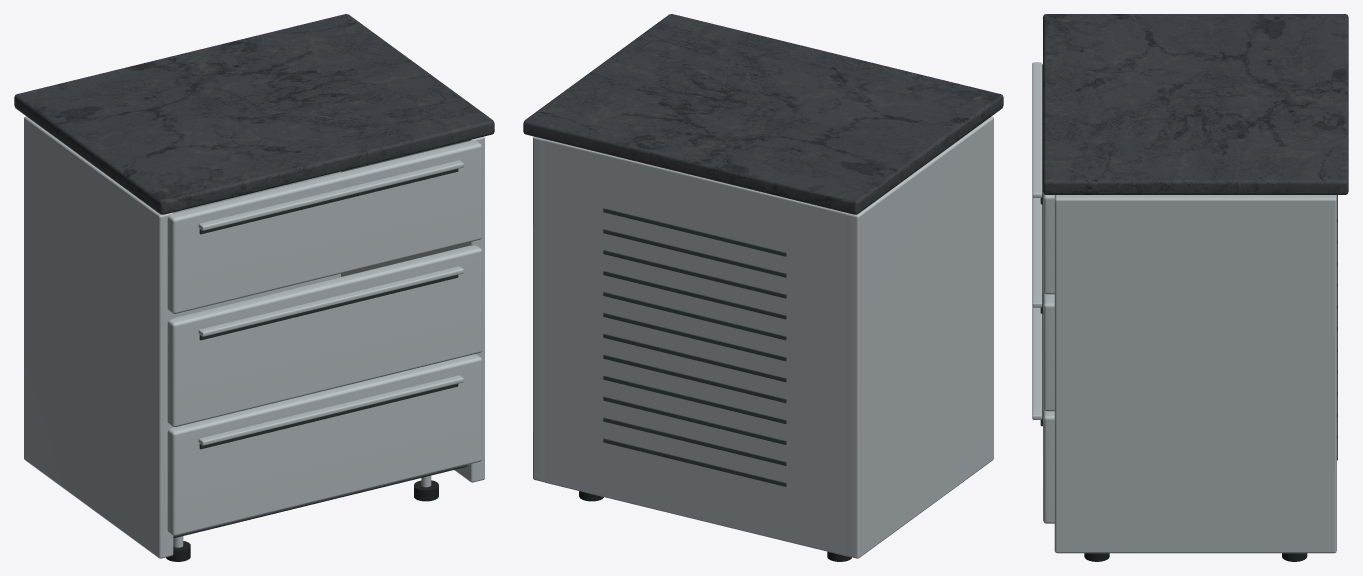
The model's file is outdoor-drawer-cabinet.glb.
3 views of the same model, side by side, from view 1: azimuth 30°, elevation 25°; view 2: azimuth 150°, elevation 25°; view 3: azimuth 270°, elevation 25° (orthographic). The views are drawn at different scales.
Visible parts, largest first — view 1: outdoor-drawer-cabinet authored assembly; view 2: outdoor-drawer-cabinet authored assembly; view 3: outdoor-drawer-cabinet authored assembly.
Part boxes in pixels (box(x1,y1,x2,y2)): outdoor-drawer-cabinet authored assembly: box(14, 14, 494, 561); outdoor-drawer-cabinet authored assembly: box(523, 14, 1003, 561); outdoor-drawer-cabinet authored assembly: box(1032, 14, 1348, 561).
Size of the model in its own units: 0.82 by 0.9 by 0.65.
5 materials, 1 textured.
